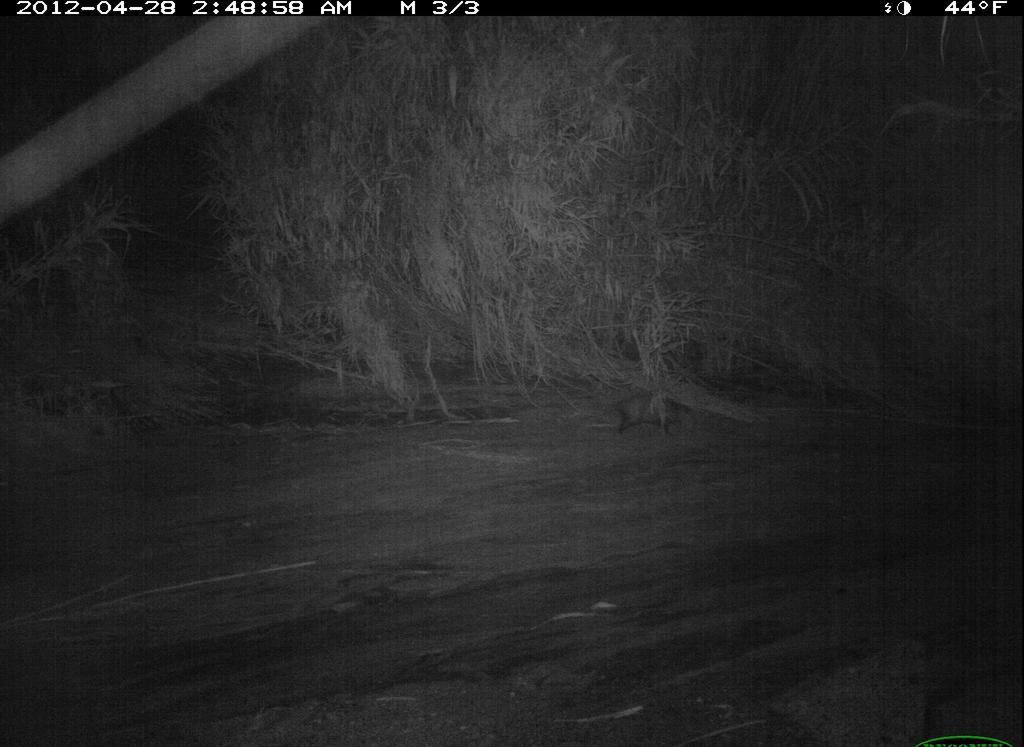opossum: (588, 387, 706, 447)
